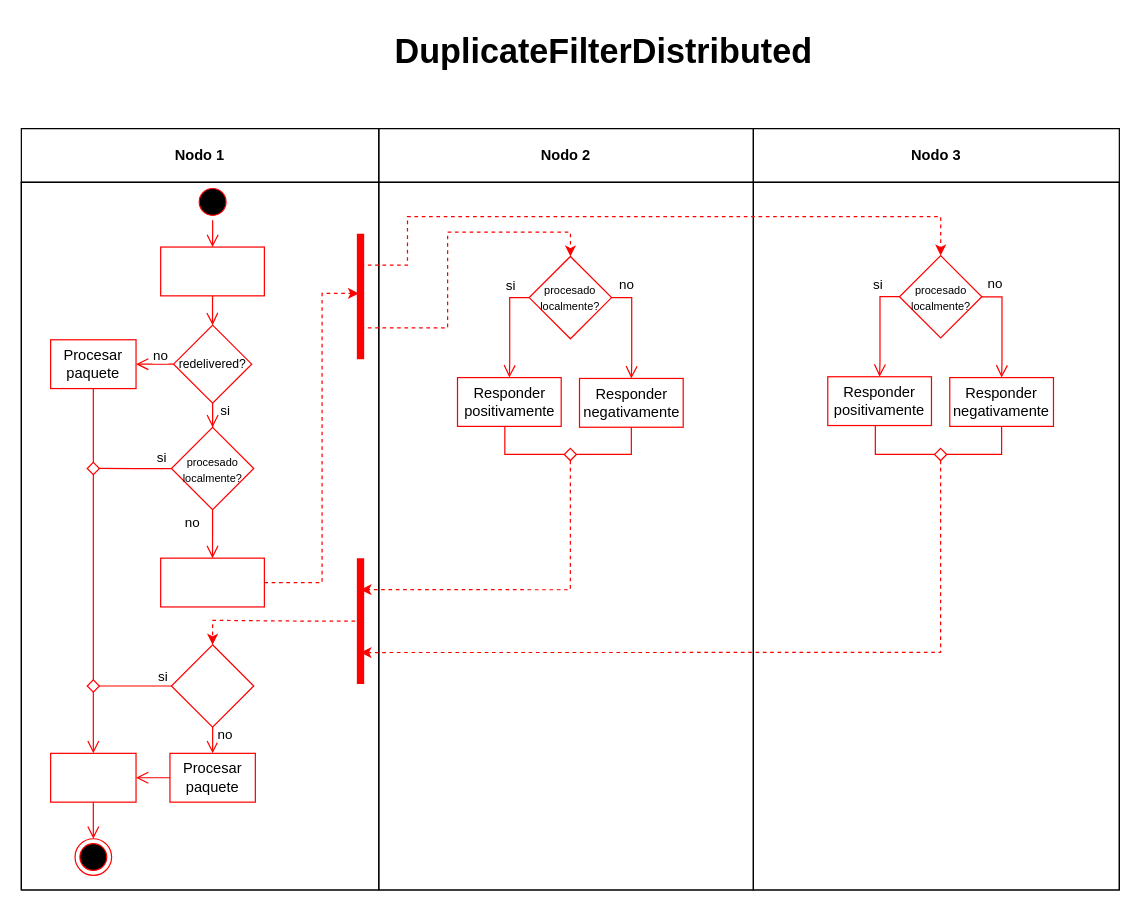
Image size: 1141x911. Some labels were removed from this diagram. The centre of each missing label's shape, as x and y in pixels:
Ack paquete: (92,777)
alguna respuesta positiva?: (212,685)
Enviar checkeo a otros nodos: (211,582)
recibir paquete: (211,271)
